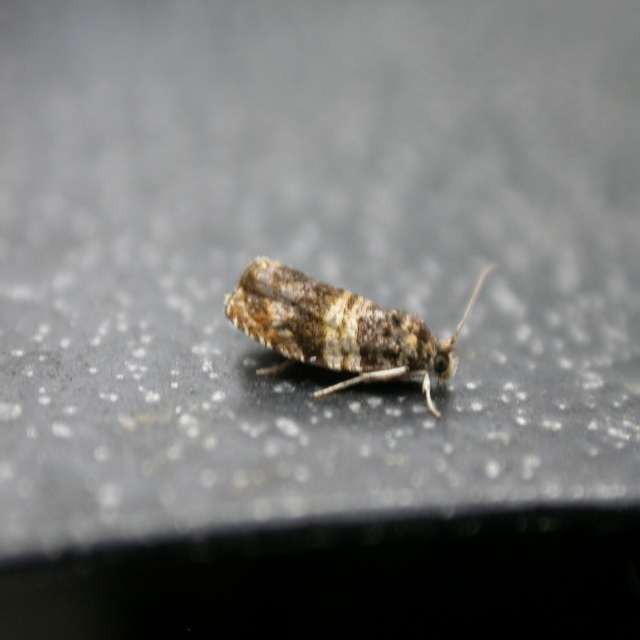Moths and butterflies: (226, 259, 500, 417)
